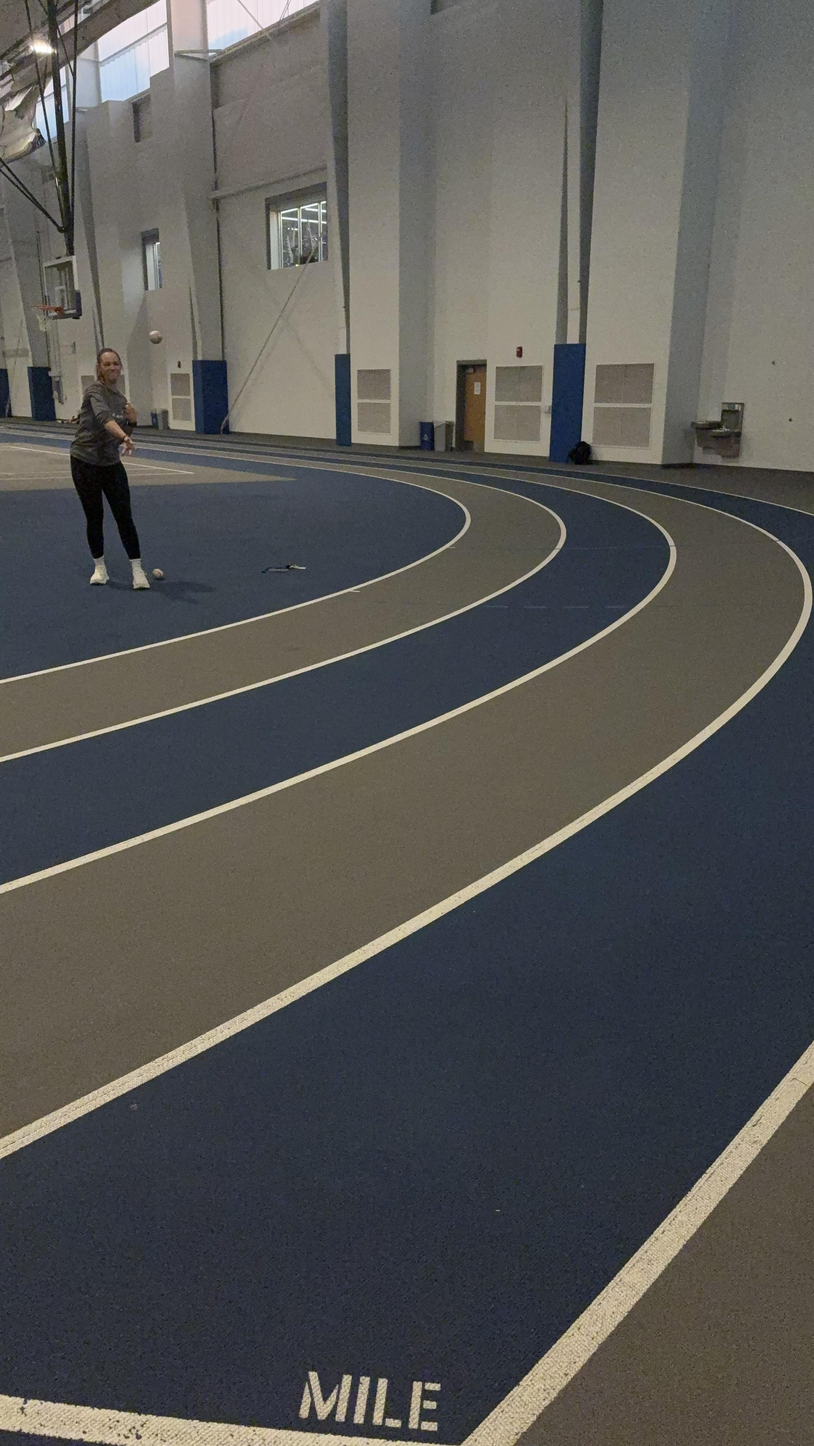Baseball: (144, 328, 165, 343), (151, 567, 165, 580)
